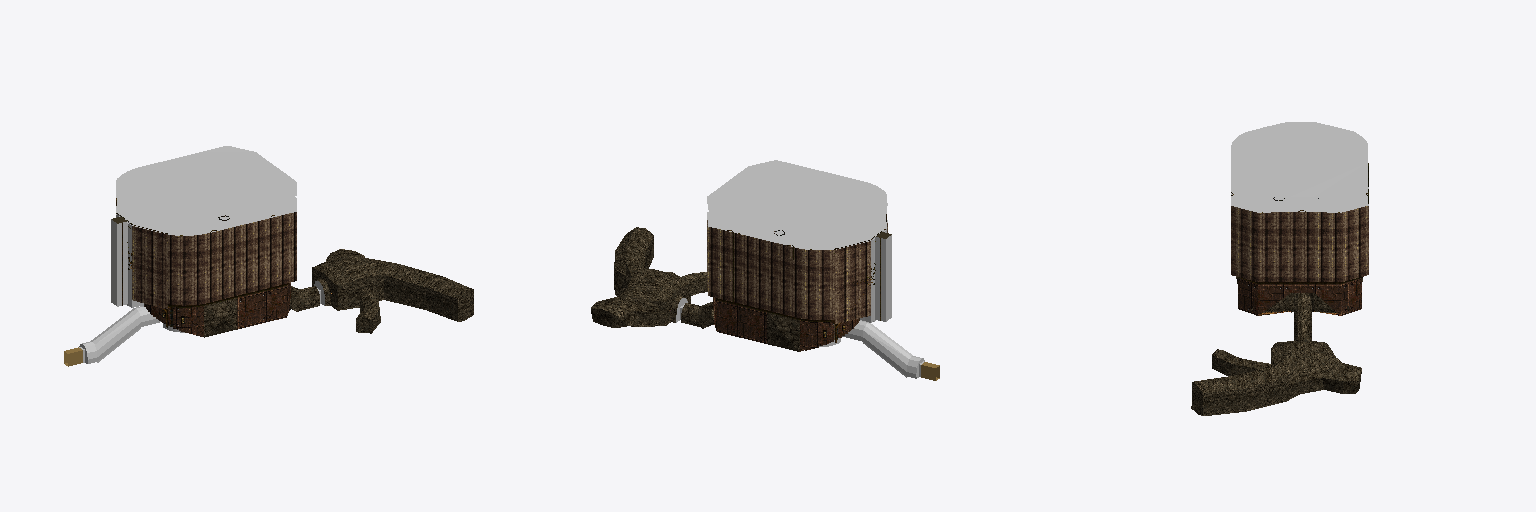
The picture shows the model from 3 angles: view 1: azimuth 30°, elevation 25°; view 2: azimuth 150°, elevation 25°; view 3: azimuth 270°, elevation 25°; orthographic projection.
Visible parts, largest first — view 1: #Room0#_Plane.010_Wall#SFX_2, #Room1#_Plane.019_BrownStone#SFX_2#WALLPROPERTY_NO_LEDGE_GRAB#FL, #Room1#_Plane.006_stone_edge_floor_to_void., #Room0#_Plane.010_BrownStone#SFX_2#WALLPROPERTY_NO_LEDGE_GRAB#FL, #Room0#_Plane.010_Metal_Cube#SFX_2, #Room0#_Room0#Camera1.001_BrownStone#SFX_2#WALLPROPERTY_NO_LEDGE, #Room0#_Pillar#NoCollision.007_BrownStone#SFX_2#WALLPROPERTY_NO_, #Room0#_Plane.010_stone_edge_floor_to_void., #Room0#_Room0#Camera1_stone_edge_floor_to_void.; view 2: #Room0#_Plane.010_Wall#SFX_2, #Room1#_Plane.019_BrownStone#SFX_2#WALLPROPERTY_NO_LEDGE_GRAB#FL, #Room1#_Plane.006_stone_edge_floor_to_void., #Room0#_Plane.010_BrownStone#SFX_2#WALLPROPERTY_NO_LEDGE_GRAB#FL, #Room0#_Plane.010_Metal_Cube#SFX_2, #Room0#_Room0#Camera1.001_BrownStone#SFX_2#WALLPROPERTY_NO_LEDGE, #Room0#_Pillar#NoCollision.007_BrownStone#SFX_2#WALLPROPERTY_NO_, #Room0#_Plane.010_stone_edge_floor_to_void., #Room0#_Room0#Camera1_stone_edge_floor_to_void.; view 3: #Room0#_Plane.010_Wall#SFX_2, #Room1#_Plane.019_BrownStone#SFX_2#WALLPROPERTY_NO_LEDGE_GRAB#FL, #Room1#_Plane.006_stone_edge_floor_to_void., #Room0#_Plane.010_Metal_Cube#SFX_2, #Room0#_Plane.010_BrownStone#SFX_2#WALLPROPERTY_NO_LEDGE_GRAB#FL, #Room0#_Room0#Camera1_stone_edge_floor_to_void., #Room0#_Room0_stone_edge_floor_to_void..
Boxes of the visible parts, x1=… form: #Room0#_Plane.010_Wall#SFX_2: x1=132, y1=212, x2=296, y2=308; #Room1#_Plane.019_BrownStone#SFX_2#WALLPROPERTY_NO_LEDGE_GRAB#FL: x1=116, y1=146, x2=296, y2=219; #Room1#_Plane.006_stone_edge_floor_to_void.: x1=312, y1=249, x2=473, y2=333; #Room0#_Plane.010_BrownStone#SFX_2#WALLPROPERTY_NO_LEDGE_GRAB#FL: x1=116, y1=196, x2=296, y2=332; #Room0#_Plane.010_Metal_Cube#SFX_2: x1=146, y1=283, x2=290, y2=336; #Room0#_Room0#Camera1.001_BrownStone#SFX_2#WALLPROPERTY_NO_LEDGE: x1=79, y1=308, x2=140, y2=363; #Room0#_Pillar#NoCollision.007_BrownStone#SFX_2#WALLPROPERTY_NO_: x1=111, y1=219, x2=127, y2=306; #Room0#_Plane.010_stone_edge_floor_to_void.: x1=204, y1=298, x2=236, y2=337; #Room0#_Room0#Camera1_stone_edge_floor_to_void.: x1=291, y1=286, x2=319, y2=311; #Room0#_Plane.010_Wall#SFX_2: x1=707, y1=220, x2=887, y2=323; #Room1#_Plane.019_BrownStone#SFX_2#WALLPROPERTY_NO_LEDGE_GRAB#FL: x1=707, y1=160, x2=887, y2=233; #Room1#_Plane.006_stone_edge_floor_to_void.: x1=591, y1=227, x2=707, y2=327; #Room0#_Plane.010_BrownStone#SFX_2#WALLPROPERTY_NO_LEDGE_GRAB#FL: x1=707, y1=211, x2=887, y2=346; #Room0#_Plane.010_Metal_Cube#SFX_2: x1=713, y1=297, x2=867, y2=350; #Room0#_Room0#Camera1.001_BrownStone#SFX_2#WALLPROPERTY_NO_LEDGE: x1=863, y1=323, x2=924, y2=378; #Room0#_Pillar#NoCollision.007_BrownStone#SFX_2#WALLPROPERTY_NO_: x1=875, y1=235, x2=891, y2=321; #Room0#_Plane.010_stone_edge_floor_to_void.: x1=767, y1=312, x2=799, y2=351; #Room0#_Room0#Camera1_stone_edge_floor_to_void.: x1=681, y1=302, x2=713, y2=328; #Room0#_Plane.010_Wall#SFX_2: x1=1231, y1=206, x2=1368, y2=281; #Room1#_Plane.019_BrownStone#SFX_2#WALLPROPERTY_NO_LEDGE_GRAB#FL: x1=1231, y1=122, x2=1368, y2=196; #Room1#_Plane.006_stone_edge_floor_to_void.: x1=1191, y1=340, x2=1361, y2=415; #Room0#_Plane.010_Metal_Cube#SFX_2: x1=1238, y1=278, x2=1361, y2=315; #Room0#_Plane.010_BrownStone#SFX_2#WALLPROPERTY_NO_LEDGE_GRAB#FL: x1=1231, y1=190, x2=1368, y2=212; #Room0#_Room0#Camera1_stone_edge_floor_to_void.: x1=1294, y1=293, x2=1311, y2=340; #Room0#_Room0_stone_edge_floor_to_void.: x1=1251, y1=293, x2=1348, y2=313.
Bounding box in the file's own units: 2957 × 1165 × 1259.
24 materials, 16 textured.